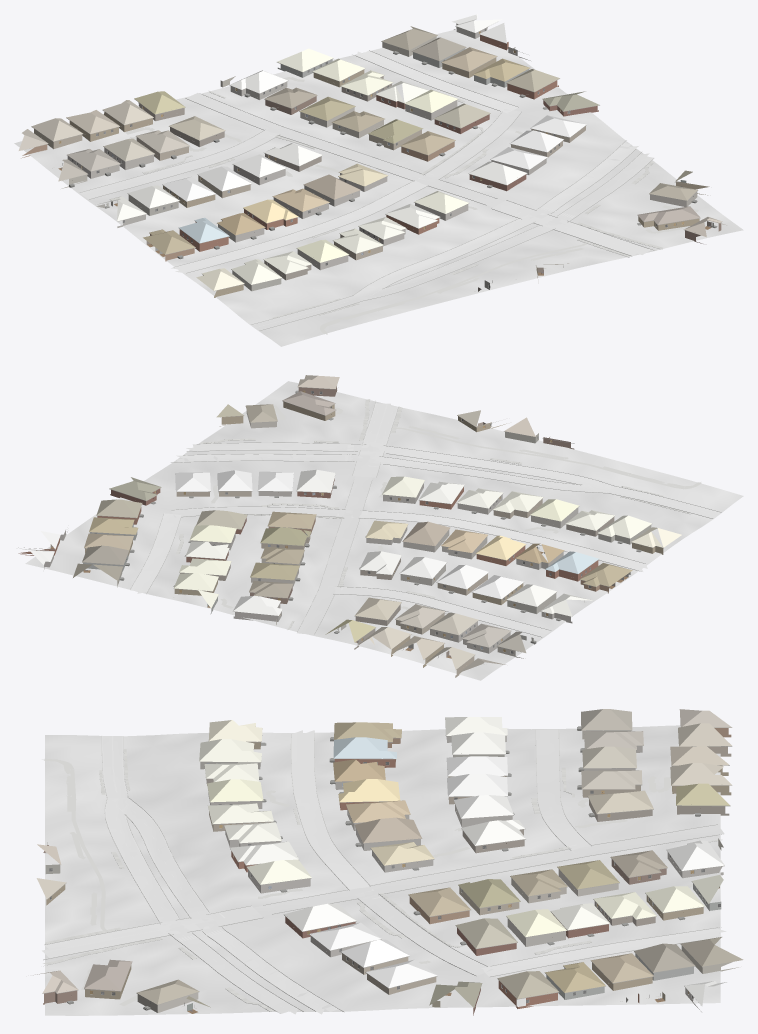
3 renders of one model, top to bottom at view 1: azimuth 30°, elevation 25°; view 2: azimuth 150°, elevation 25°; view 3: azimuth 270°, elevation 25°, orthographic. The views are drawn at different scales.
Visible parts, largest first — view 1: ground, roof, concrete, wall, asphalt, wall_stone, curb, detail, walk, wall_stucco; view 2: ground, roof, concrete, asphalt, wall, curb, wall_stone, detail, walk, wall_stucco, mark_w; view 3: ground, roof, concrete, asphalt, wall, walk, curb, detail, wall_stone, wall_stucco, mark_w, mark_y.
Part boxes in pixels (bbox=[...]): ground: bbox=[14, 29, 743, 346]; roof: bbox=[18, 14, 726, 290]; concrete: bbox=[80, 50, 534, 273]; wall: bbox=[21, 35, 721, 297]; asphalt: bbox=[251, 143, 653, 330]; wall_stone: bbox=[67, 23, 546, 270]; curb: bbox=[80, 50, 658, 330]; detail: bbox=[29, 26, 722, 291]; walk: bbox=[125, 77, 698, 334]; wall_stucco: bbox=[61, 36, 697, 291]; ground: bbox=[25, 381, 743, 680]; roof: bbox=[16, 375, 681, 672]; concrete: bbox=[130, 459, 647, 636]; asphalt: bbox=[176, 403, 720, 518]; wall: bbox=[18, 386, 663, 677]; curb: bbox=[130, 400, 721, 637]; wall_stone: bbox=[44, 483, 578, 653]; detail: bbox=[18, 387, 662, 669]; walk: bbox=[176, 399, 701, 637]; wall_stucco: bbox=[83, 410, 651, 658]; mark_w: bbox=[172, 404, 718, 590]; ground: bbox=[45, 725, 720, 1015]; roof: bbox=[33, 709, 743, 1007]; concrete: bbox=[202, 729, 726, 976]; asphalt: bbox=[42, 736, 338, 1014]; wall: bbox=[43, 728, 731, 1015]; walk: bbox=[42, 749, 722, 1011]; curb: bbox=[43, 729, 722, 1011]; detail: bbox=[42, 719, 738, 1010]; wall_stone: bbox=[208, 736, 723, 1011]; wall_stucco: bbox=[45, 731, 738, 1012]; mark_w: bbox=[45, 736, 576, 1011]; mark_y: bbox=[44, 736, 316, 1011].
Size of the model in its own units: 267 by 16.18 by 270.
